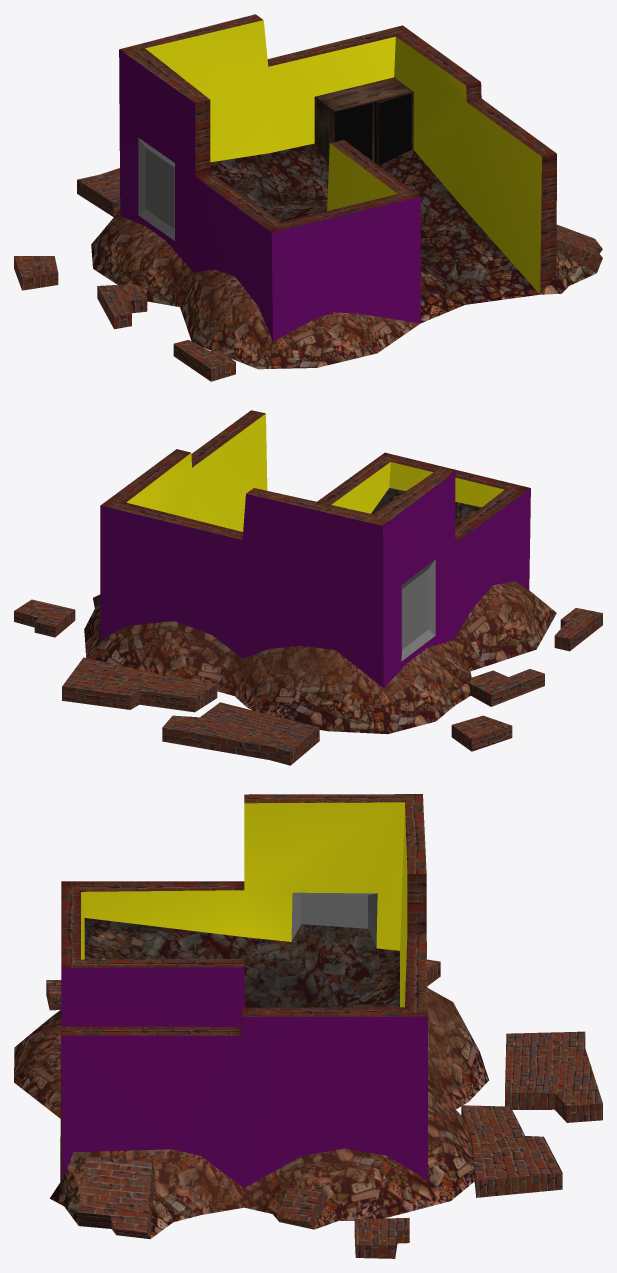
Rendered from razvalinaForGame.FBX.
3 renders of one model, top to bottom at view 1: azimuth 30°, elevation 25°; view 2: azimuth 150°, elevation 25°; view 3: azimuth 270°, elevation 25°, orthographic. The views are drawn at different scales.
Parts seen in each view (by area): view 1: razvalinaUnwrapConvertedFanal; view 2: razvalinaUnwrapConvertedFanal; view 3: razvalinaUnwrapConvertedFanal.
Boxes of the visible parts, x1,y1,x2,y2 form: razvalinaUnwrapConvertedFanal: (14,14,602,381); razvalinaUnwrapConvertedFanal: (14,410,602,765); razvalinaUnwrapConvertedFanal: (14,794,602,1258).
Size of the model in its own units: 1.4 by 1.19 by 0.5402.
